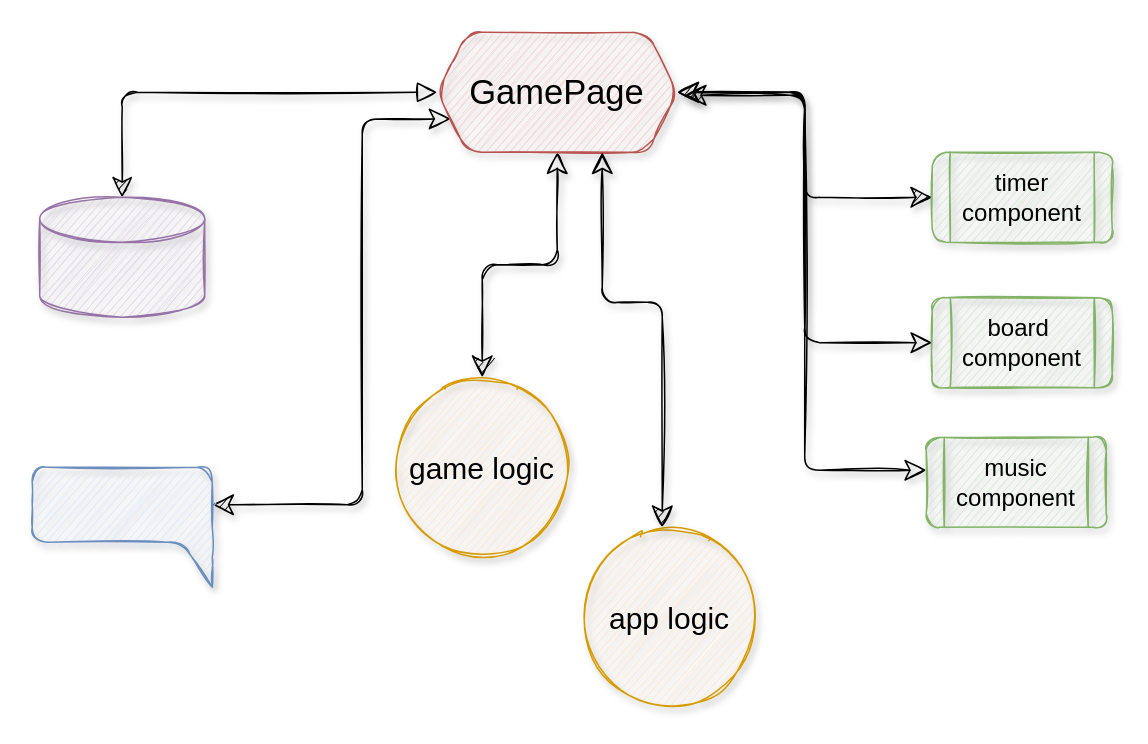
Some shapes in this 1148 by 744 pixel diagram are drawn without their labels. The shapes that lost their labels are listed below. From the top down, each one's centre as x and y in pixels, then its label:
At pixel 123 259: "DataBase".
At pixel 123 529: "socket".
